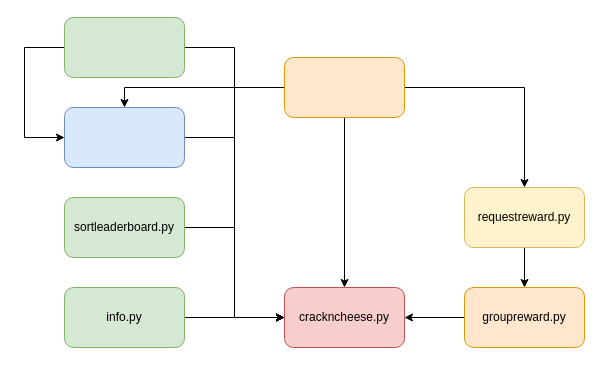
Some shapes in this 602 by 365 pixel diagram are drawn without their labels. Here are the shapes that lost their labels. From the top down, the box of each, then its label:
(64, 16, 184, 78): checkrank.py
(284, 56, 404, 118): update_json.py
(64, 106, 184, 168): tkleaderboard.py
